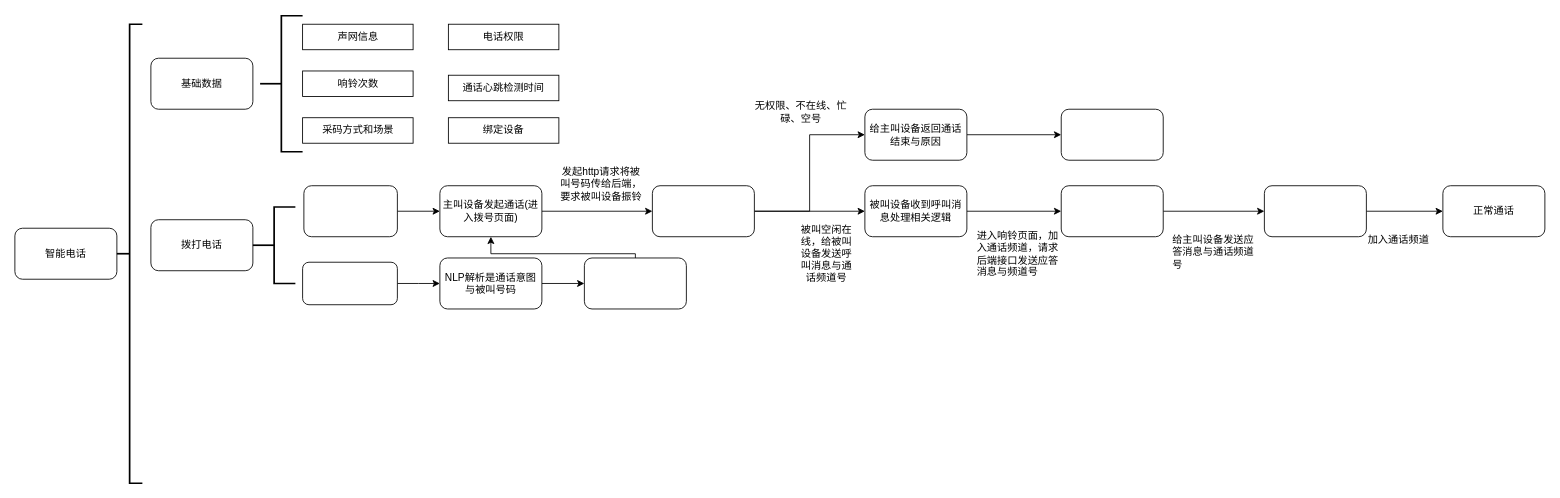
This 1560x498 diagram has some shape labels left out. The centre of each missing label's shape, as x and y in pixels:
主叫设备收到应答消息: [1315,211]
主叫设备结束通话: [1111,134]
后端处理相关逻辑: [703,211]
后端接口接收被叫应答、处理相关逻辑: [1111,211]
按键或点击触发: [350,211]
语音呼叫触发: [349,283]
音箱接收通话意图意图与被叫号码: [635,283]
